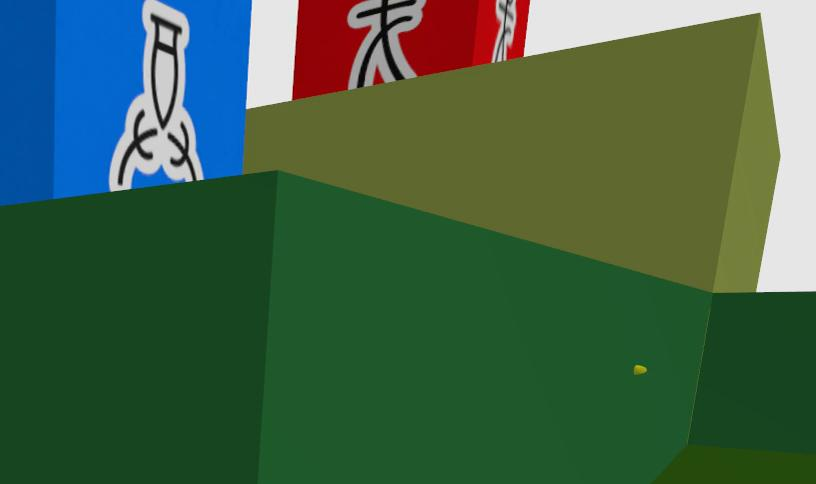KFS_FAKE: (292, 0, 530, 98), (347, 0, 425, 87), (491, 0, 515, 62)
KFS_REAL: (0, 0, 149, 203), (110, 0, 203, 190), (175, 0, 247, 153)
